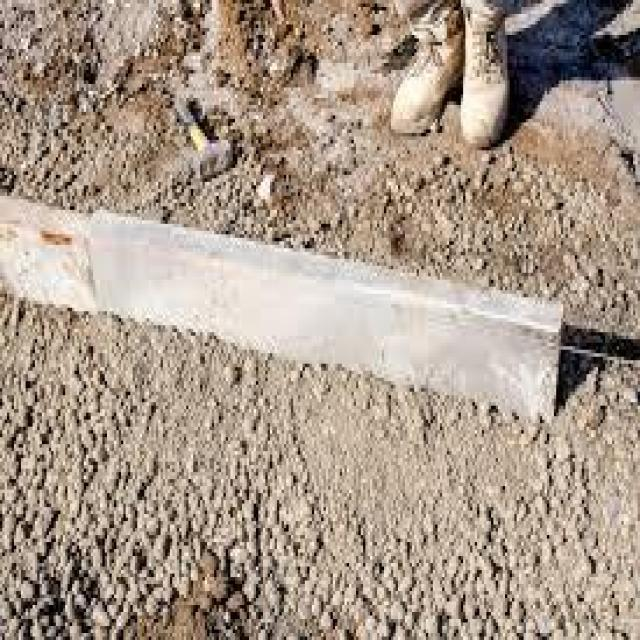curb: (1, 195, 563, 425)
